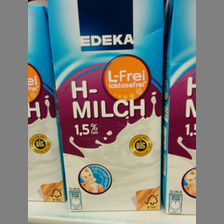milk: (47, 1, 165, 216)
